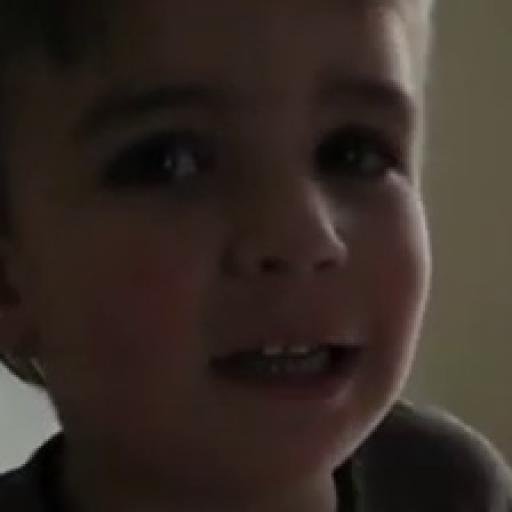Autism: (31, 20, 512, 502)
